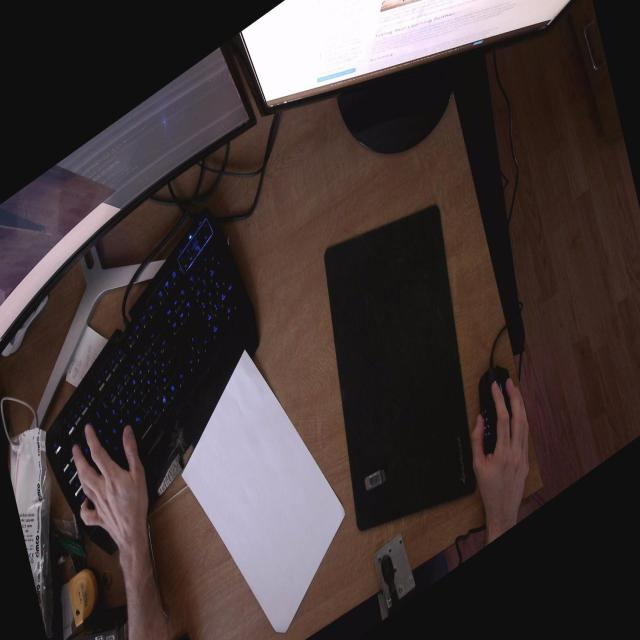keyboard-with-hands: (41, 201, 267, 568)
